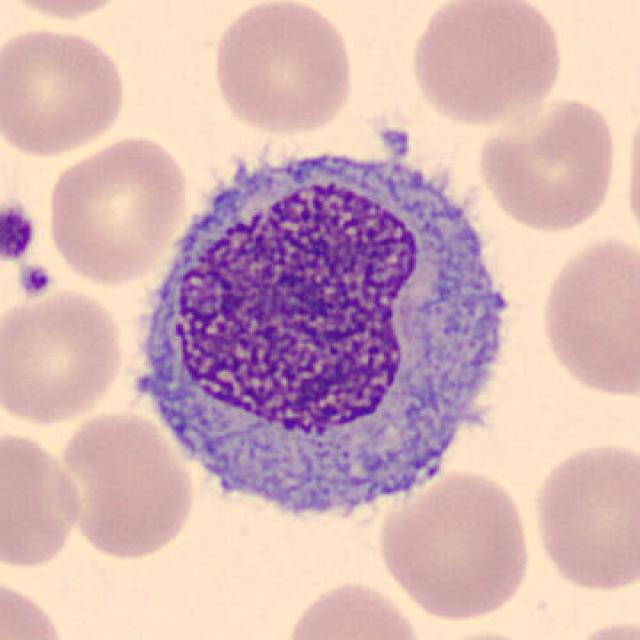Monocyte: (117, 129, 528, 536)
Platelets: (0, 200, 39, 264), (14, 261, 55, 300), (375, 122, 416, 160)
RBC: (373, 466, 537, 624), (43, 130, 192, 288), (54, 408, 198, 562), (405, 0, 567, 129), (473, 93, 620, 234), (208, 0, 357, 138), (0, 21, 132, 161), (535, 229, 640, 402), (0, 287, 128, 428), (528, 435, 638, 596), (0, 423, 87, 573), (279, 576, 426, 640), (0, 573, 71, 640), (0, 0, 135, 25), (622, 90, 640, 250), (560, 613, 640, 640), (410, 627, 554, 640)
